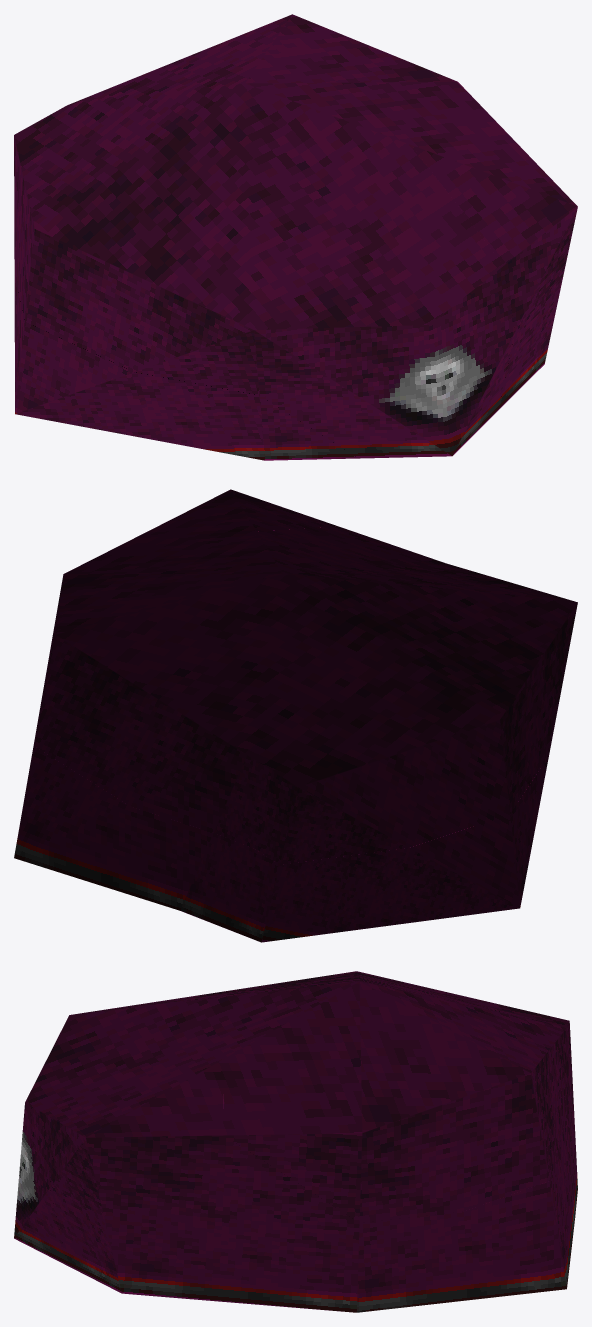
File: PhatberetredZ.obj
3 renders of one model, top to bottom at view 1: azimuth 30°, elevation 25°; view 2: azimuth 150°, elevation 25°; view 3: azimuth 270°, elevation 25°, orthographic. The views are drawn at different scales.
Bounding box in the file's own units: 181 × 111 × 204.
2 materials, 2 textured.
